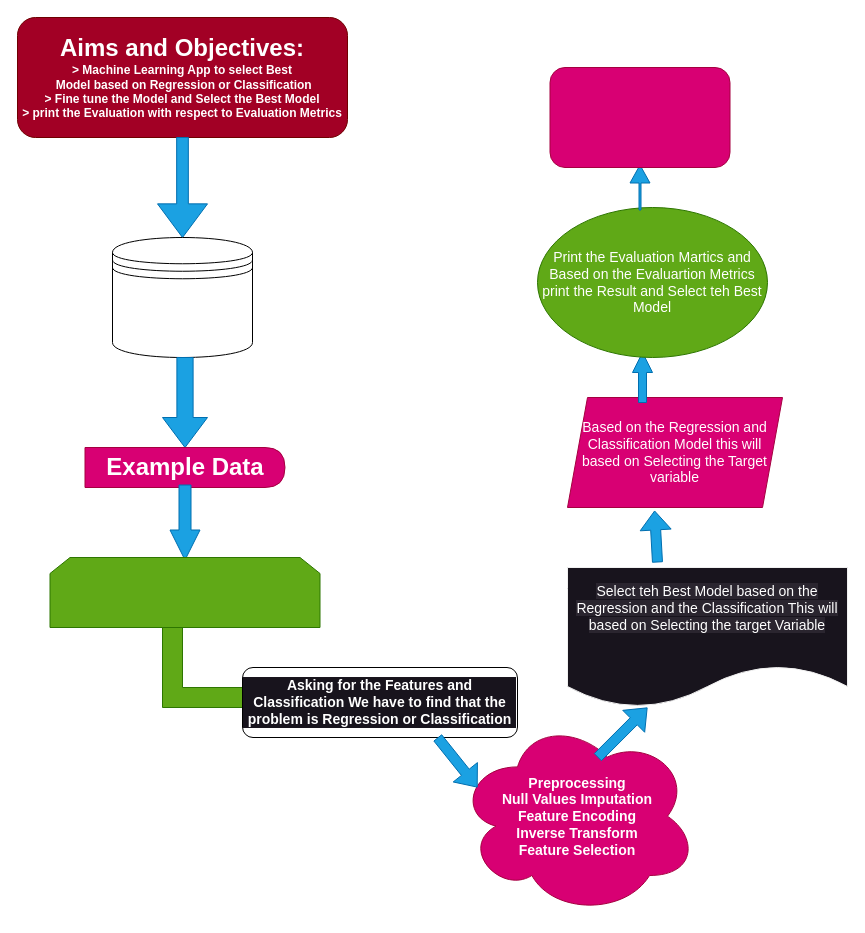
This 865x933 diagram has some shape labels left out. Here are the shapes that lost their labels. From the top down, the centre of each, then its label:
[639,117]: Select the Best Model based on Hyperparameter Tuning
[182,297]: Load the Data
[184,592]: Check the Column Names and Data Types
